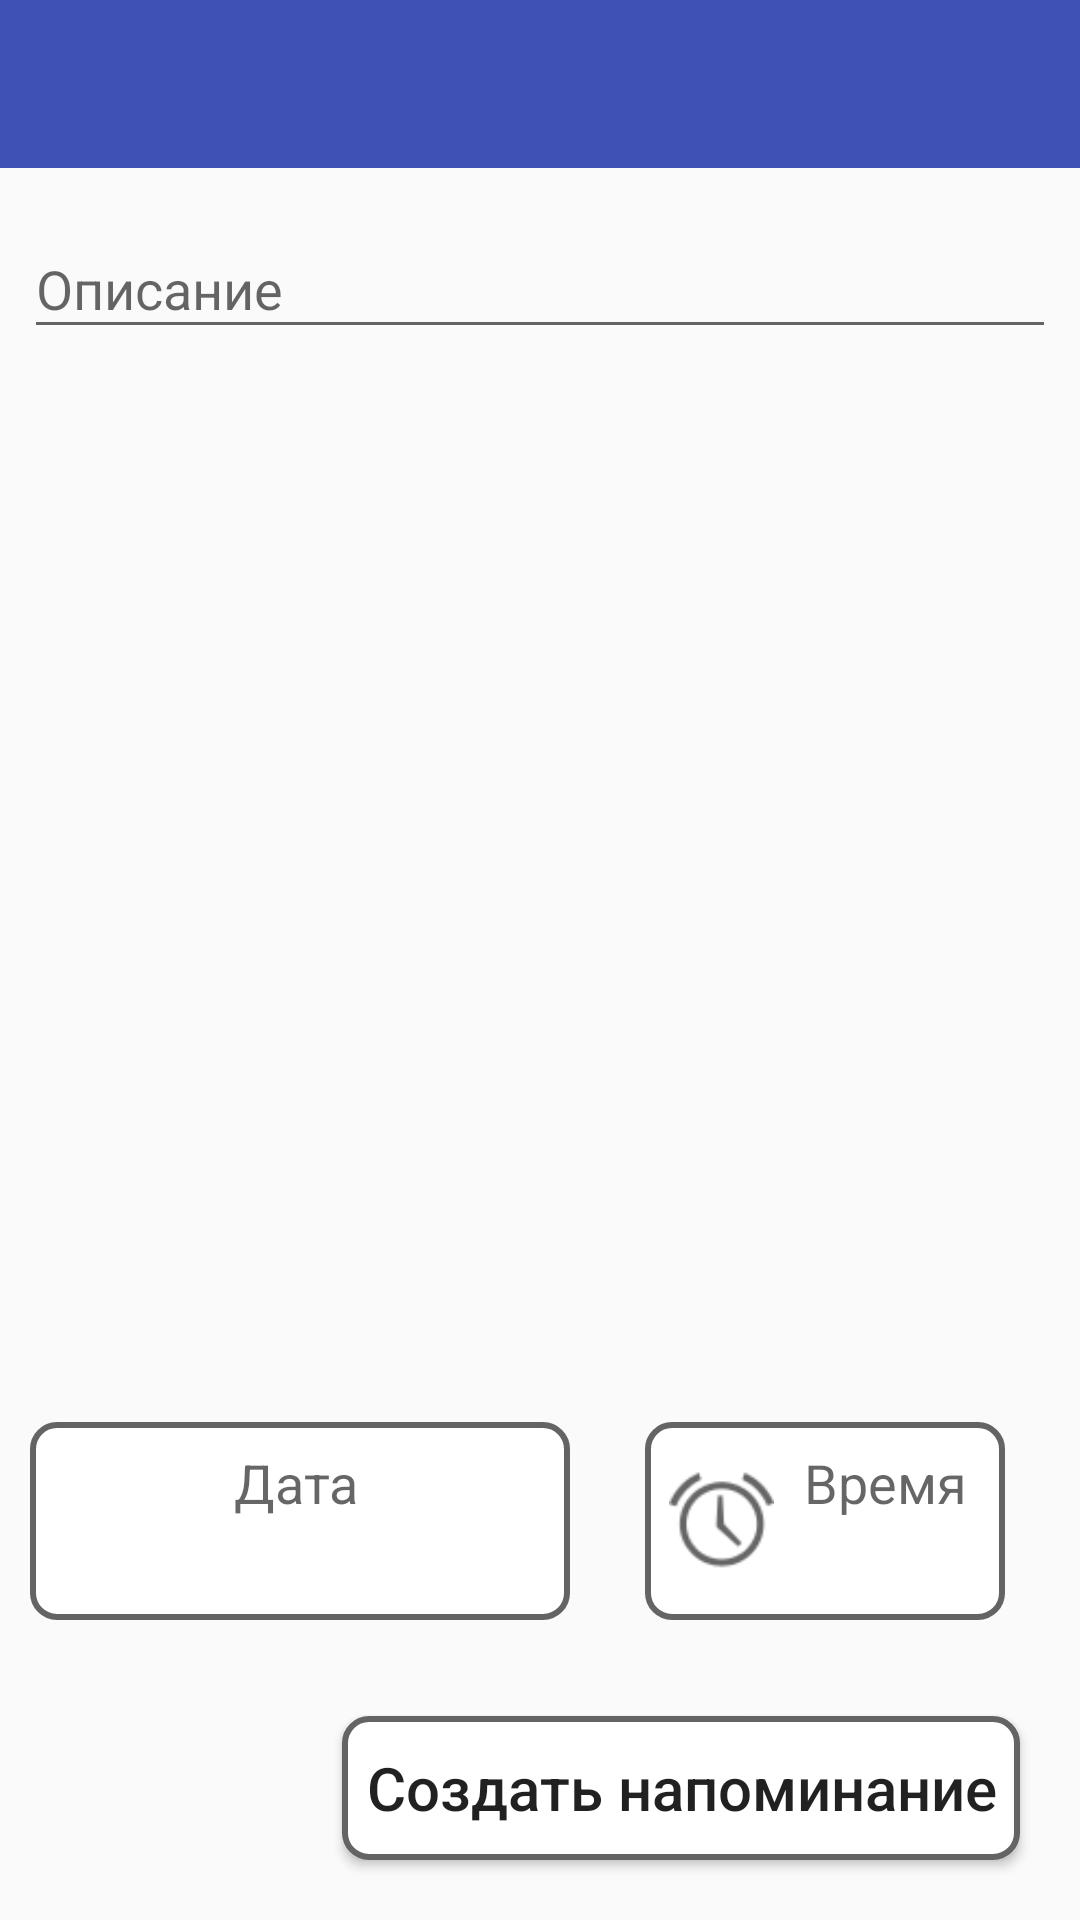

Locate icon controls on the screen. Image size 1080×1920, boxes as (x1=x1, y1=y1, x2=x2, y2=y2).
lock idle alarm: (x1=669, y1=1472, x2=774, y2=1567)
